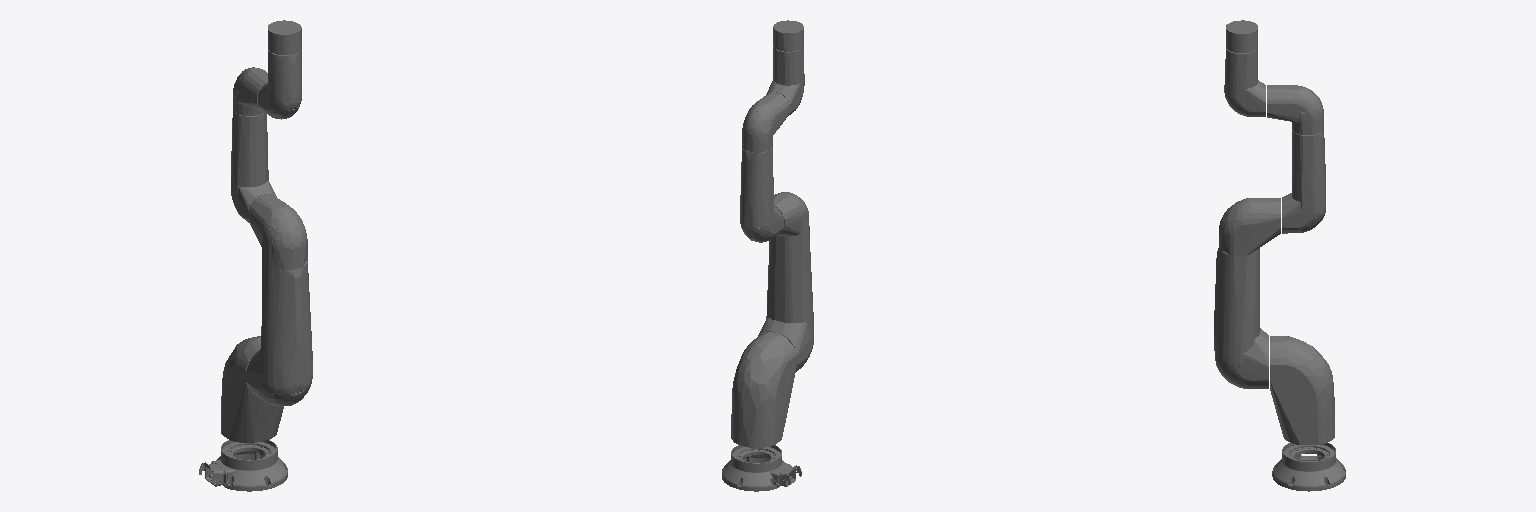
robot.urdf — indy7:
<?xml version="1.0" encoding="utf-8"?>
<!-- =================================================================================== -->
<!-- |    This document was autogenerated by xacro from indy7.xacro                    | -->
<!-- |    EDITING THIS FILE BY HAND IS NOT RECOMMENDED                                 | -->
<!-- =================================================================================== -->
<robot name="indy7">
  <material name="black">
    <color rgba="0.0 0.0 0.0 1.0"/>
  </material>
  <material name="blue">
    <color rgba="0.0 0.0 0.8 1.0"/>
  </material>
  <material name="green">
    <color rgba="0.0 0.8 0.0 1.0"/>
  </material>
  <material name="grey_">
    <color rgba="0.2 0.2 0.2 1.0"/>
  </material>
  <material name="orange">
    <color rgba="1.0 0.423529411765 0.0392156862745 1.0"/>
  </material>
  <material name="brown">
    <color rgba="0.870588235294 0.811764705882 0.764705882353 1.0"/>
  </material>
  <material name="red">
    <color rgba="0.8 0.0 0.0 1.0"/>
  </material>
  <material name="white">
    <color rgba="1.0 1.0 1.0 1.0"/>
  </material>
  <material name="metal">
    <color rgba="0.768627450980392 0.749019607843137 0.729411764705882 1"/>
  </material>
  <material name="metal_grey">
    <color rgba="0.501960784313725 0.501960784313725 0.501960784313725 1"/>
  </material>
  <material name="metal_white">
    <color rgba="0.866666666666667 0.866666666666667 0.890196078431373 1"/>
  </material>
  <!-- ros_control plugin -->
  <gazebo>
    <plugin filename="libgazebo_ros_control.so" name="gazebo_ros_control"/>
  </gazebo>
  <!-- Link0 -->
  <gazebo reference="link0">
    <mu1>0.2</mu1>
    <mu2>0.2</mu2>
    <material>Gazebo/White</material>
  </gazebo>
  <!-- Link0 -->
  <gazebo reference="link1">
    <mu1>0.2</mu1>
    <mu2>0.2</mu2>
    <material>Gazebo/White</material>
  </gazebo>
  <!-- Link2 -->
  <gazebo reference="link2">
    <mu1>0.2</mu1>
    <mu2>0.2</mu2>
    <material>Gazebo/White</material>
  </gazebo>
  <gazebo reference="link3">
    <mu1>0.2</mu1>
    <mu2>0.2</mu2>
    <material>Gazebo/White</material>
  </gazebo>
  <gazebo reference="link4">
    <mu1>0.2</mu1>
    <mu2>0.2</mu2>
    <material>Gazebo/White</material>
  </gazebo>
  <gazebo reference="link5">
    <mu1>0.2</mu1>
    <mu2>0.2</mu2>
    <material>Gazebo/White</material>
  </gazebo>
  <gazebo reference="link6">
    <mu1>0.2</mu1>
    <mu2>0.2</mu2>
    <material>Gazebo/White</material>
  </gazebo>
  <!-- <material name="grey"> <color rgba="0.5 0.5 0.5 1"/> </material> -->
  <link name="world"/>
  <link name="link0">
    <visual>
      <origin rpy="0 0 0" xyz="0 0 0"/>
      <geometry>
        <mesh filename="package://indy7_description/meshes/stl/Indy7_0.stl"/>
      </geometry>
      <material name="metal_grey"/>
    </visual>
    <collision>
      <origin rpy="0 0 0" xyz="0 0 0"/>
      <geometry>
        <cylinder length="0.075" radius="0.102"/>
      </geometry>
    </collision>
    <inertial>
      <origin rpy="0 0 0" xyz="0 0 0"/>
      <mass value="1.59306955"/>
      <inertia ixx="+0.00572623" ixy="+0.00000251" ixz="-0.00011380" iyy="+0.00558959" iyz="-0.00000014" izz="+0.00966674"/>
    </inertial>
  </link>
  <link name="link1">
    <visual>
      <origin rpy="0 0 0" xyz="0 0 0"/>
      <geometry>
        <mesh filename="package://indy7_description/meshes/stl/Indy7_1.stl"/>
      </geometry>
      <material name="metal_grey"/>
    </visual>
    <collision>
      <origin rpy="0 0 0" xyz="0 0 0.111"/>
      <geometry>
        <cylinder length="0.222" radius="0.075"/>
      </geometry>
    </collision>
    <collision>
      <origin rpy="1.57079632679 0 0" xyz="0 -0.0545 0.222"/>
      <geometry>
        <cylinder length="0.109" radius="0.075"/>
      </geometry>
    </collision>
    <inertial>
      <origin rpy="0 0 0" xyz="0 0 0"/>
      <mass value="11.8030102"/>
      <inertia ixx="+0.15418559" ixy="-0.00000235" ixz="+0.00001739" iyy="+0.12937017" iyz="-0.04854267" izz="+0.05964415"/>
    </inertial>
  </link>
  <link name="link2">
    <visual>
      <origin rpy="0 0 0" xyz="0 0 0"/>
      <geometry>
        <mesh filename="package://indy7_description/meshes/stl/Indy7_2.stl"/>
      </geometry>
      <material name="metal_grey"/>
    </visual>
    <collision>
      <origin rpy="1.57079632679 0 -1.57079632679" xyz="-0.225 0 0.09"/>
      <geometry>
        <cylinder length="0.450" radius="0.063"/>
      </geometry>
    </collision>
    <collision>
      <origin rpy="0 0 0" xyz="0 0 0.045"/>
      <geometry>
        <cylinder length="0.09" radius="0.075"/>
      </geometry>
    </collision>
    <collision>
      <origin rpy="0 0 0" xyz="-0.45 0 0.02975 "/>
      <geometry>
        <cylinder length="0.1205" radius="0.045"/>
      </geometry>
    </collision>
    <inertial>
      <origin rpy="0 0 0" xyz="0 0 0"/>
      <mass value="7.99292141"/>
      <inertia ixx="+0.29356980" ixy="-0.00000040" ixz="+0.00001441" iyy="+0.28094142" iyz="+0.03727972" izz="+0.03620609"/>
    </inertial>
  </link>
  <link name="link3">
    <visual>
      <origin rpy="0 0 0" xyz="0 0 0"/>
      <geometry>
        <mesh filename="package://indy7_description/meshes/stl/Indy7_3.stl"/>
      </geometry>
      <material name="metal_grey"/>
    </visual>
    <collision>
      <origin rpy="1.57079632679 0 -1.57079632679" xyz="-0.1335 0 -0.075"/>
      <geometry>
        <cylinder length="0.267" radius="0.045"/>
      </geometry>
    </collision>
    <collision>
      <origin rpy="0 0 0" xyz="0 0 -0.0375"/>
      <geometry>
        <cylinder length="0.075" radius="0.045"/>
      </geometry>
    </collision>
    <inertial>
      <origin rpy="0 0 0" xyz="0 0 0"/>
      <mass value="2.99134127"/>
      <inertia ixx="+0.03424593" ixy="+0.00000149" ixz="+0.00000724" iyy="+0.03406024" iyz="+0.00186009" izz="+0.00450477"/>
    </inertial>
  </link>
  <link name="link4">
    <visual>
      <origin rpy="0 0 0" xyz="0 0 0"/>
      <geometry>
        <mesh filename="package://indy7_description/meshes/stl/Indy7_4.stl"/>
      </geometry>
      <material name="metal_grey"/>
    </visual>
    <collision>
      <origin rpy="1.57079632679 0 0" xyz="0 -0.057 0.083"/>
      <geometry>
        <cylinder length="0.114" radius="0.045"/>
      </geometry>
    </collision>
    <collision>
      <origin rpy="1.57079632679 0 0" xyz="0 -0.057 0.083"/>
      <geometry>
        <cylinder length="0.114" radius="0.045"/>
      </geometry>
    </collision>
    <collision>
      <origin rpy="0 0 0" xyz="0 0 0.0415"/>
      <geometry>
        <cylinder length="0.083" radius="0.045"/>
      </geometry>
    </collision>
    <inertial>
      <origin rpy="0 0 0" xyz="0 0 0"/>
      <mass value="2.12317035"/>
      <inertia ixx="+0.00670405" ixy="+0.00000375" ixz="+0.00000150" iyy="+0.00279246" iyz="-0.00127967" izz="+0.00619341"/>
    </inertial>
  </link>
  <link name="link5">
    <visual>
      <origin rpy="0 0 0" xyz="0 0 0"/>
      <geometry>
        <mesh filename="package://indy7_description/meshes/stl/Indy7_5.stl"/>
      </geometry>
      <material name="metal_grey"/>
    </visual>
    <collision>
      <origin rpy="1.57079632679 0 -1.57079632679" xyz="-0.084 0 0.069"/>
      <geometry>
        <cylinder length="0.168" radius="0.045"/>
      </geometry>
    </collision>
    <collision>
      <origin rpy="0 0 0" xyz="-0 0 0.0345"/>
      <geometry>
        <cylinder length="0.069" radius="0.045"/>
      </geometry>
    </collision>
    <inertial>
      <origin rpy="0 0 0" xyz="0 0 0"/>
      <mass value="2.28865091"/>
      <inertia ixx="+0.00994891" ixy="+0.00000014" ixz="+0.00000321" iyy="+0.00978189" iyz="-0.00093546" izz="+0.00271492"/>
    </inertial>
  </link>
  <link name="link6">
    <visual>
      <origin rpy="0 0 0" xyz="0 0 0"/>
      <geometry>
        <mesh filename="package://indy7_description/meshes/stl/Indy7_6.stl"/>
      </geometry>
      <material name="metal_grey"/>
    </visual>
    <collision>
      <origin rpy="0 0 0" xyz="0 0 0.03"/>
      <geometry>
        <cylinder length="0.06" radius="0.045"/>
      </geometry>
    </collision>
    <inertial>
      <origin rpy="0 0 0" xyz="0 0 0"/>
      <mass value="0.40083918"/>
      <inertia ixx="0.00043534" ixy="+0.00000013" ixz="-0.00000002" iyy="0.00044549" iyz="+0.00000051" izz="0.00059634"/>
    </inertial>
  </link>
  <link name="tcp"/>
  <joint name="global" type="fixed">
    <parent link="world"/>
    <child link="link0"/>
    <origin rpy="0 0 0" xyz="0 0 0"/>
  </joint>
  <joint name="joint0" type="revolute">
    <parent link="link0"/>
    <child link="link1"/>
    <origin rpy="0 0 0" xyz="0 0 0.0775"/>
    <axis xyz="0 0 1"/>
    <limit effort="10" lower="-3.05432619099" upper="3.05432619099" velocity="1"/>
  </joint>
  <joint name="joint1" type="revolute">
    <parent link="link1"/>
    <child link="link2"/>
    <origin rpy="1.57079632679 1.57079632679 0" xyz="0 -0.10900000 0.22200000"/>
    <axis xyz="0 0 1"/>
    <limit effort="10" lower="-3.05432619099" upper="3.05432619099" velocity="1"/>
  </joint>
  <joint name="joint2" type="revolute">
    <parent link="link2"/>
    <child link="link3"/>
    <origin rpy="0 0 0" xyz="-0.45000000 +0.00000000 -0.03050000"/>
    <axis xyz="0 0 1"/>
    <limit effort="10" lower="-3.05432619099" upper="3.05432619099" velocity="1"/>
  </joint>
  <joint name="joint3" type="revolute">
    <parent link="link3"/>
    <child link="link4"/>
    <origin rpy="-1.57079632679 0 1.57079632679" xyz="-0.26700000 +0.00000000 -0.07500000"/>
    <axis xyz="0 0 1"/>
    <limit effort="10" lower="-3.05432619099" upper="3.05432619099" velocity="1"/>
  </joint>
  <joint name="joint4" type="revolute">
    <parent link="link4"/>
    <child link="link5"/>
    <origin rpy="1.57079632679 1.57079632679 0" xyz="+0.00000000 -0.11400000 +0.08300000"/>
    <axis xyz="0 0 1"/>
    <limit effort="10" lower="-3.05432619099" upper="3.05432619099" velocity="1"/>
  </joint>
  <joint name="joint5" type="revolute">
    <parent link="link5"/>
    <child link="link6"/>
    <origin rpy="-1.57079632679 0 1.57079632679" xyz="-0.16800000 +0.00000000 +0.06900000"/>
    <axis xyz="0 0 1"/>
    <limit effort="10" lower="-3.75245789179" upper="3.75245789179" velocity="1"/>
  </joint>
  <joint name="tcp" type="fixed">
    <parent link="link6"/>
    <child link="tcp"/>
    <origin rpy="0 0 0" xyz="0 0 0.06"/>
  </joint>
  <transmission name="tran0">
    <type>transmission_interface/SimpleTransmission</type>
    <joint name="joint0">
      <hardwareInterface>PositionJointInterface</hardwareInterface>
    </joint>
    <actuator name="motor0">
      <hardwareInterface>PositionJointInterface</hardwareInterface>
      <mechanicalReduction>1</mechanicalReduction>
    </actuator>
  </transmission>
  <transmission name="tran1">
    <type>transmission_interface/SimpleTransmission</type>
    <joint name="joint1">
      <hardwareInterface>PositionJointInterface</hardwareInterface>
    </joint>
    <actuator name="motor1">
      <hardwareInterface>PositionJointInterface</hardwareInterface>
      <mechanicalReduction>1</mechanicalReduction>
    </actuator>
  </transmission>
  <transmission name="tran2">
    <type>transmission_interface/SimpleTransmission</type>
    <joint name="joint2">
      <hardwareInterface>PositionJointInterface</hardwareInterface>
    </joint>
    <actuator name="motor2">
      <hardwareInterface>PositionJointInterface</hardwareInterface>
      <mechanicalReduction>1</mechanicalReduction>
    </actuator>
  </transmission>
  <transmission name="tran3">
    <type>transmission_interface/SimpleTransmission</type>
    <joint name="joint3">
      <hardwareInterface>PositionJointInterface</hardwareInterface>
    </joint>
    <actuator name="motor3">
      <hardwareInterface>PositionJointInterface</hardwareInterface>
      <mechanicalReduction>1</mechanicalReduction>
    </actuator>
  </transmission>
  <transmission name="tran4">
    <type>transmission_interface/SimpleTransmission</type>
    <joint name="joint4">
      <hardwareInterface>PositionJointInterface</hardwareInterface>
    </joint>
    <actuator name="motor4">
      <hardwareInterface>PositionJointInterface</hardwareInterface>
      <mechanicalReduction>1</mechanicalReduction>
    </actuator>
  </transmission>
  <transmission name="tran5">
    <type>transmission_interface/SimpleTransmission</type>
    <joint name="joint5">
      <hardwareInterface>PositionJointInterface</hardwareInterface>
    </joint>
    <actuator name="motor5">
      <hardwareInterface>PositionJointInterface</hardwareInterface>
      <mechanicalReduction>1</mechanicalReduction>
    </actuator>
  </transmission>
</robot>

--- Render facts (derived) ---
Views: 3 orthographic renders of the robot side by side, from view 1: azimuth 30°, elevation 25°; view 2: azimuth 150°, elevation 25°; view 3: azimuth 270°, elevation 25°.
Robot: indy7 — 9 links, 8 joints (6 revolute, 2 fixed); root link world; default pose: all joints at 0.
Visible links, largest first — view 1: link2, link1, link3, link0, link5, link4, link6; view 2: link2, link1, link3, link0, link4, link5, link6; view 3: link2, link1, link3, link0, link5, link4, link6.
Link boxes in pixels (left/top/right/bottom): link2: left=246, top=194, right=312, bottom=406; link1: left=221, top=336, right=283, bottom=442; link3: left=231, top=111, right=276, bottom=222; link0: left=199, top=440, right=287, bottom=491; link5: left=258, top=49, right=301, bottom=119; link4: left=233, top=67, right=267, bottom=115; link6: left=268, top=20, right=301, bottom=54; link2: left=758, top=192, right=813, bottom=371; link1: left=731, top=331, right=796, bottom=447; link3: left=740, top=147, right=783, bottom=242; link0: left=722, top=445, right=801, bottom=491; link4: left=742, top=92, right=789, bottom=152; link5: left=766, top=46, right=804, bottom=114; link6: left=773, top=20, right=803, bottom=51; link2: left=1214, top=198, right=1280, bottom=388; link1: left=1270, top=336, right=1334, bottom=444; link3: left=1282, top=130, right=1325, bottom=233; link0: left=1272, top=443, right=1345, bottom=491; link5: left=1224, top=48, right=1265, bottom=116; link4: left=1267, top=85, right=1323, bottom=134; link6: left=1226, top=20, right=1257, bottom=52.
Size in the robot's own frame: 0.2363 by 0.3674 by 1.37 metres.
7 mesh visuals loaded from 7 distinct referenced files (7 binary STL).
